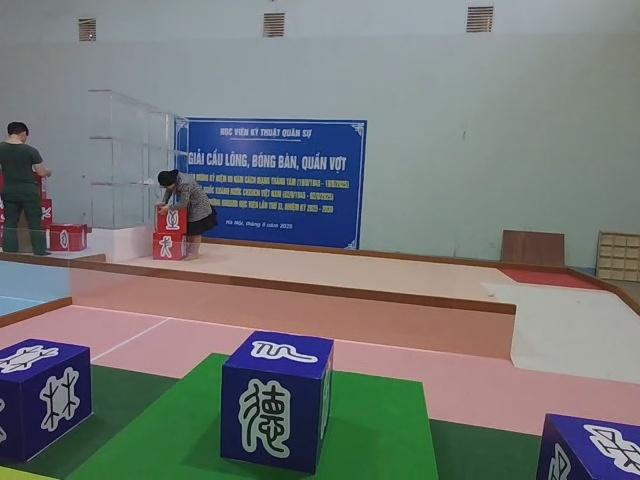R2 Fake Blue: (221, 330, 334, 473)
R2 Real Blue: (1, 339, 94, 465), (536, 415, 639, 480)
